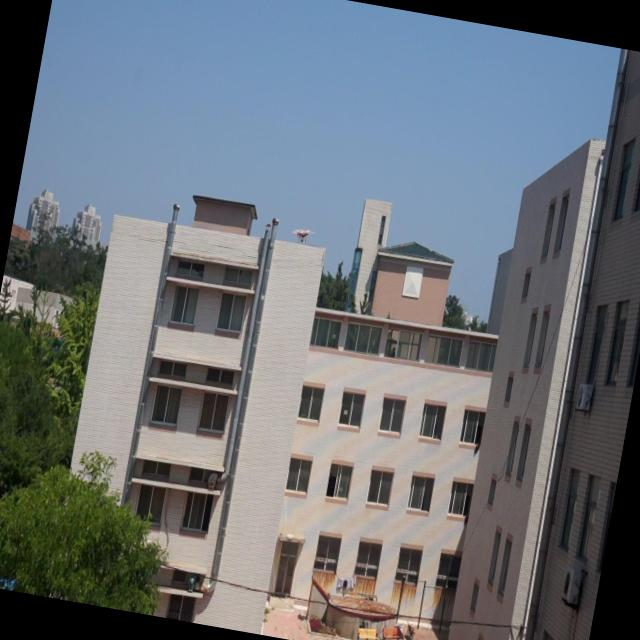drone: (290, 224, 316, 248)
